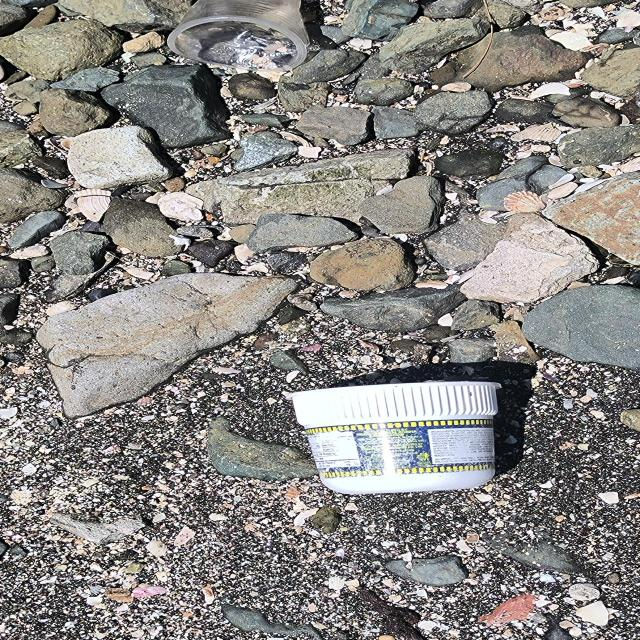plastic_waste: (285, 381, 506, 495), (166, 1, 314, 73)
